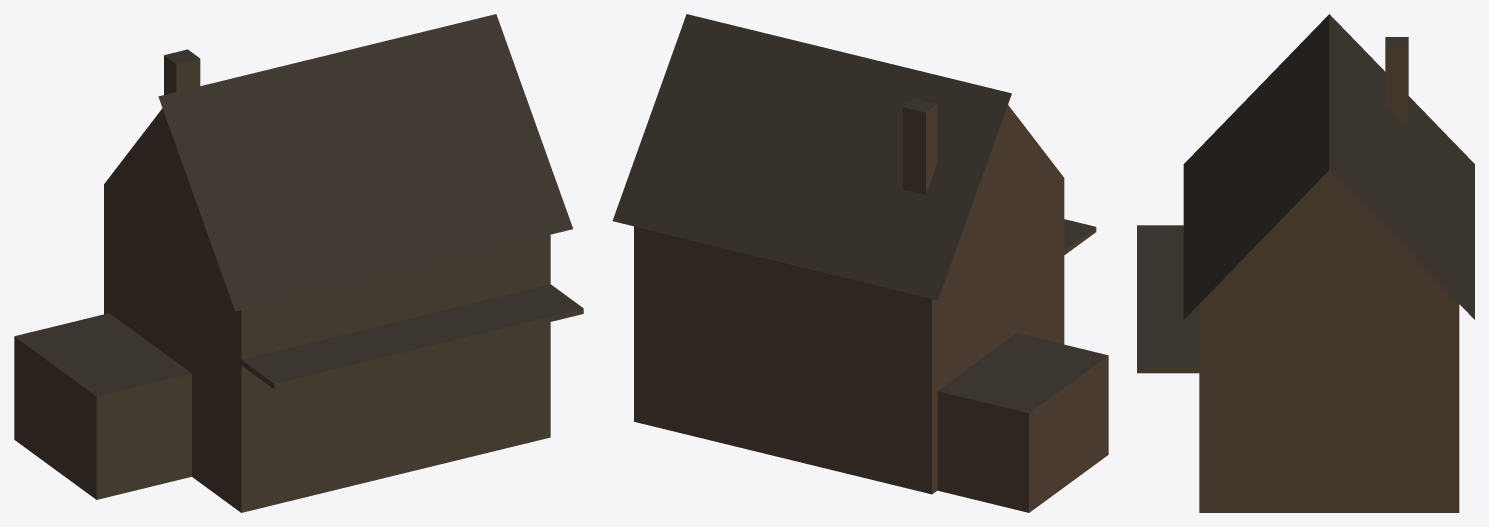
The model's file is rw-timber-lodge.far-facades-v3.lod2.glb.
3 renders of one model, left to right at view 1: azimuth 30°, elevation 25°; view 2: azimuth 150°, elevation 25°; view 3: azimuth 270°, elevation 25°, orthographic. The views are drawn at different scales.
Visible parts, largest first — view 1: rw-timber-lodge; view 2: rw-timber-lodge; view 3: rw-timber-lodge.
Part boxes in pixels (bbox=[...]): rw-timber-lodge: bbox=[14, 14, 583, 512]; rw-timber-lodge: bbox=[612, 14, 1108, 512]; rw-timber-lodge: bbox=[1137, 14, 1474, 512].
Bounding box in the file's own units: 17.6 × 14.84 × 13.
